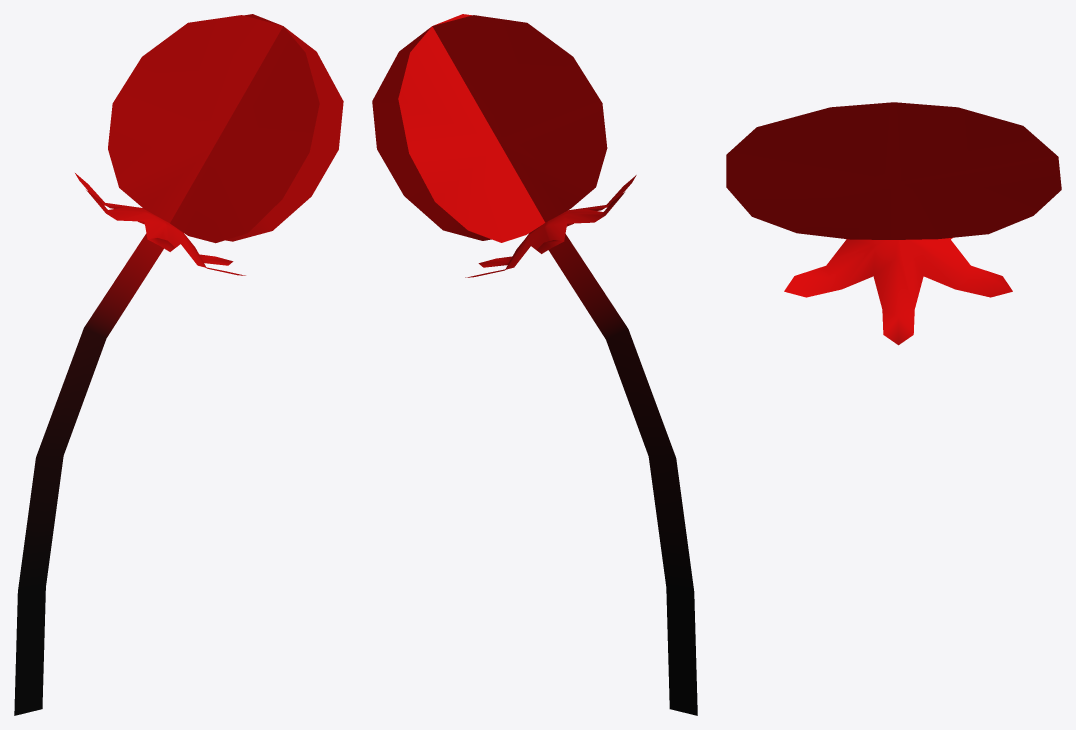
Rendered from SM_Dandelion_02_LOD1.fbx.
3 renders of one model, left to right at view 1: azimuth 30°, elevation 25°; view 2: azimuth 150°, elevation 25°; view 3: azimuth 270°, elevation 25°, orthographic. The views are drawn at different scales.
Parts seen in each view (by area): view 1: SM_Dandelion_02_LOD1; view 2: SM_Dandelion_02_LOD1; view 3: SM_Dandelion_02_LOD1.
Part boxes in pixels (<box>): SM_Dandelion_02_LOD1: <box>14,14,343,715</box>; SM_Dandelion_02_LOD1: <box>372,14,697,715</box>; SM_Dandelion_02_LOD1: <box>726,102,1061,345</box>.
Bounding box in the file's own units: 47.09 × 34.59 × 89.48.
